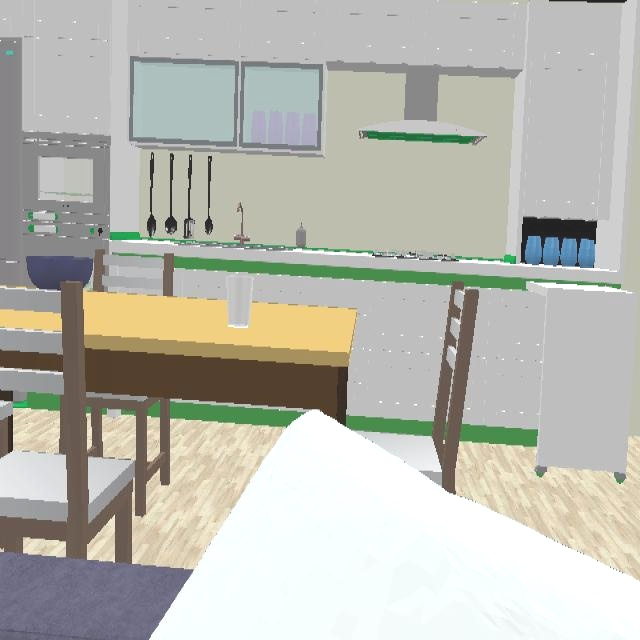cabinet: (252, 274, 449, 434), (461, 288, 545, 442), (175, 270, 226, 296)
chair: (0, 282, 135, 562), (362, 280, 479, 492)
countertop: (109, 232, 621, 281)
oven: (22, 134, 109, 216)
sink: (234, 202, 250, 246)
stove: (372, 250, 455, 261)
table: (84, 292, 356, 418)
